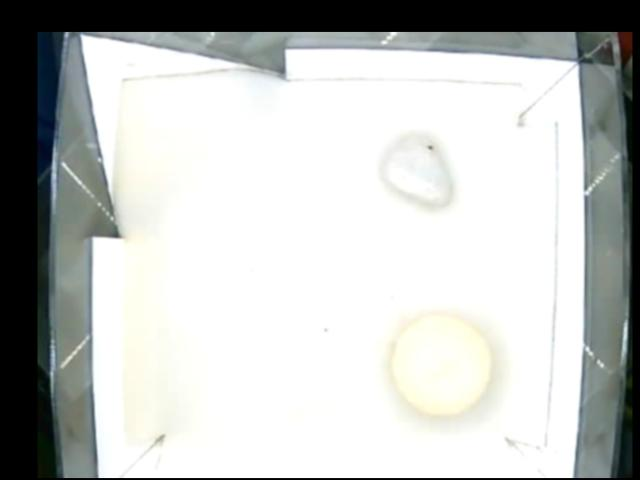Mooli: (391, 315, 488, 416)
Pebble: (383, 128, 452, 209)
